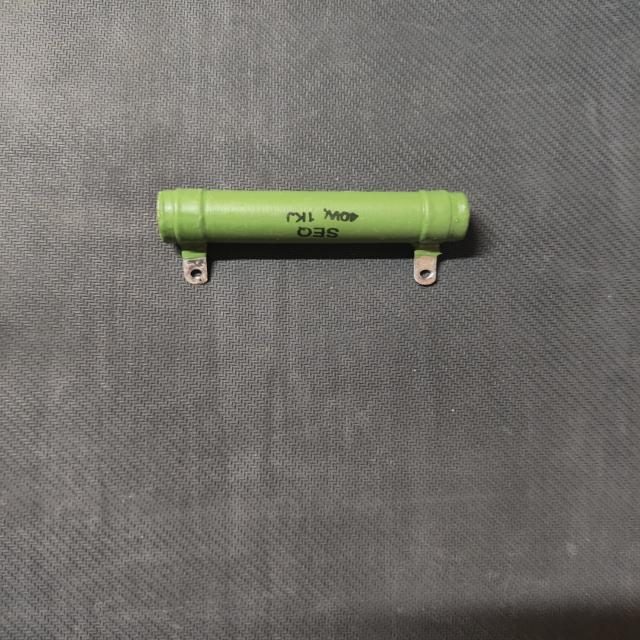resistor: (140, 175, 489, 298)
